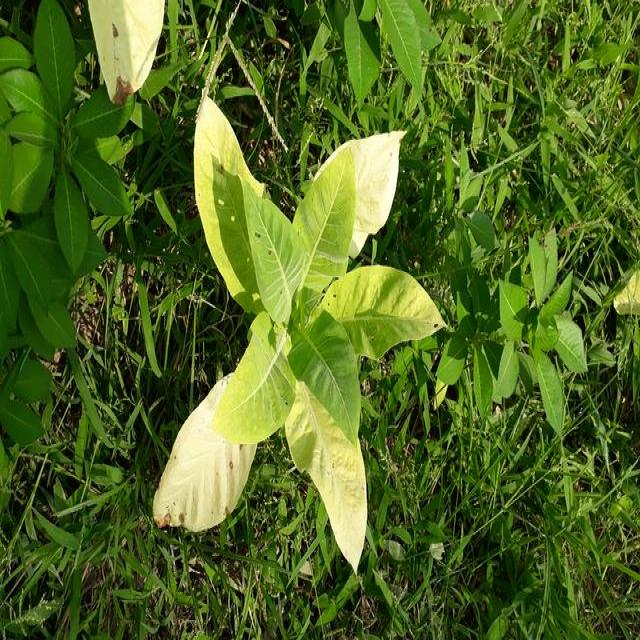crop: (171, 92, 414, 574), (83, 0, 164, 105)
